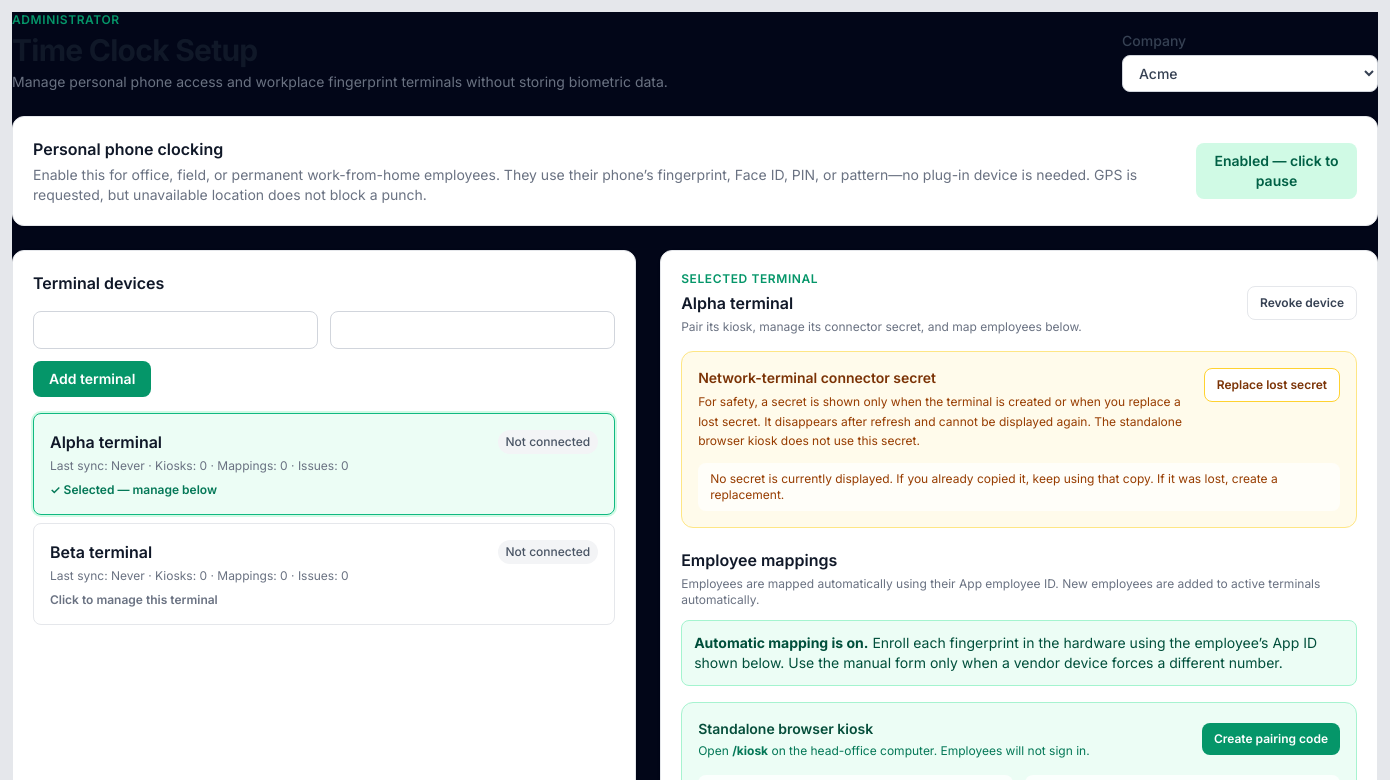
time clock terminal selection › visibly selects a terminal, moves to its controls, and replaces a lost secret
Click the button "Beta terminal": [324, 574] box [33,523,615,625]
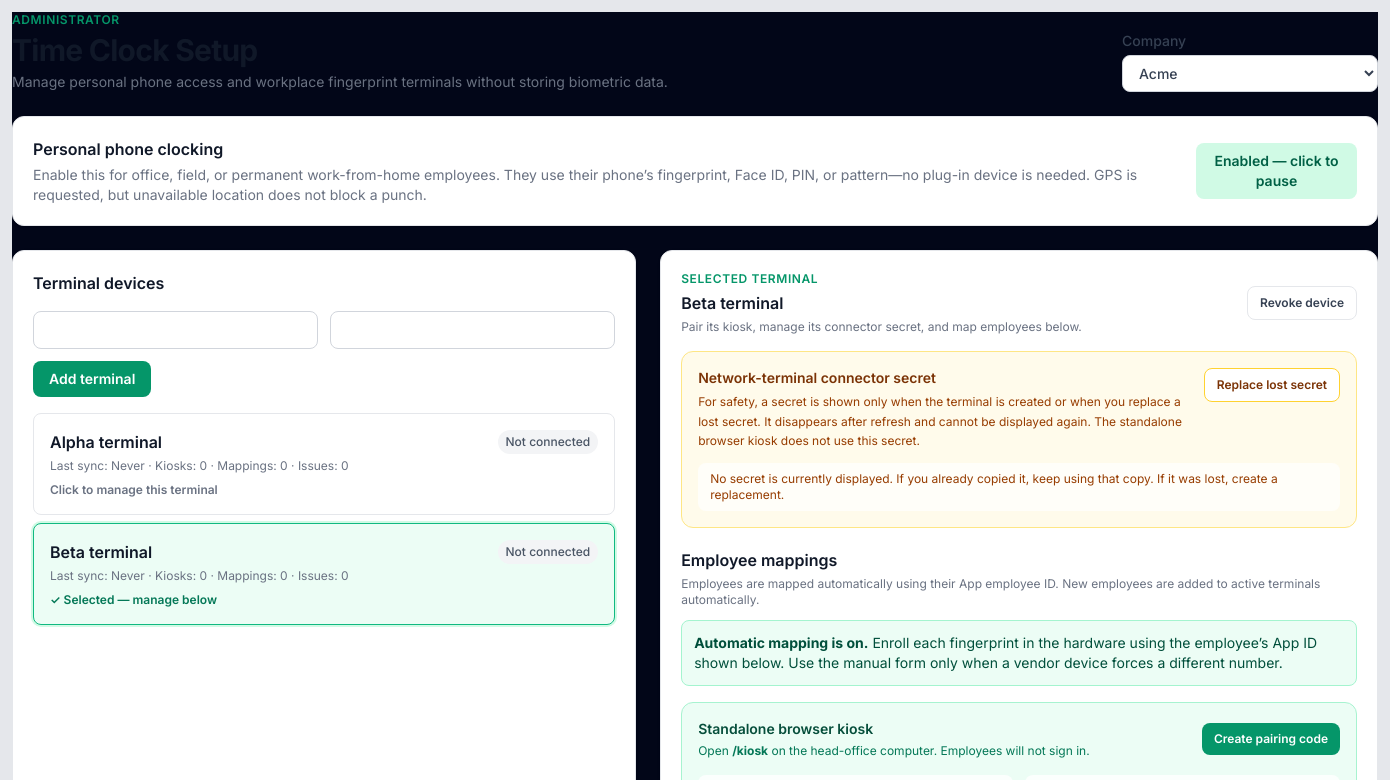
Expected: the text "Automatic mapping is on." is shown, [694,634,868,650]
Expected: the heading "Beta terminal" is shown, [681,293,783,313]
Click the button "Replace lost secret": [1272, 385] box [1204,368,1340,402]
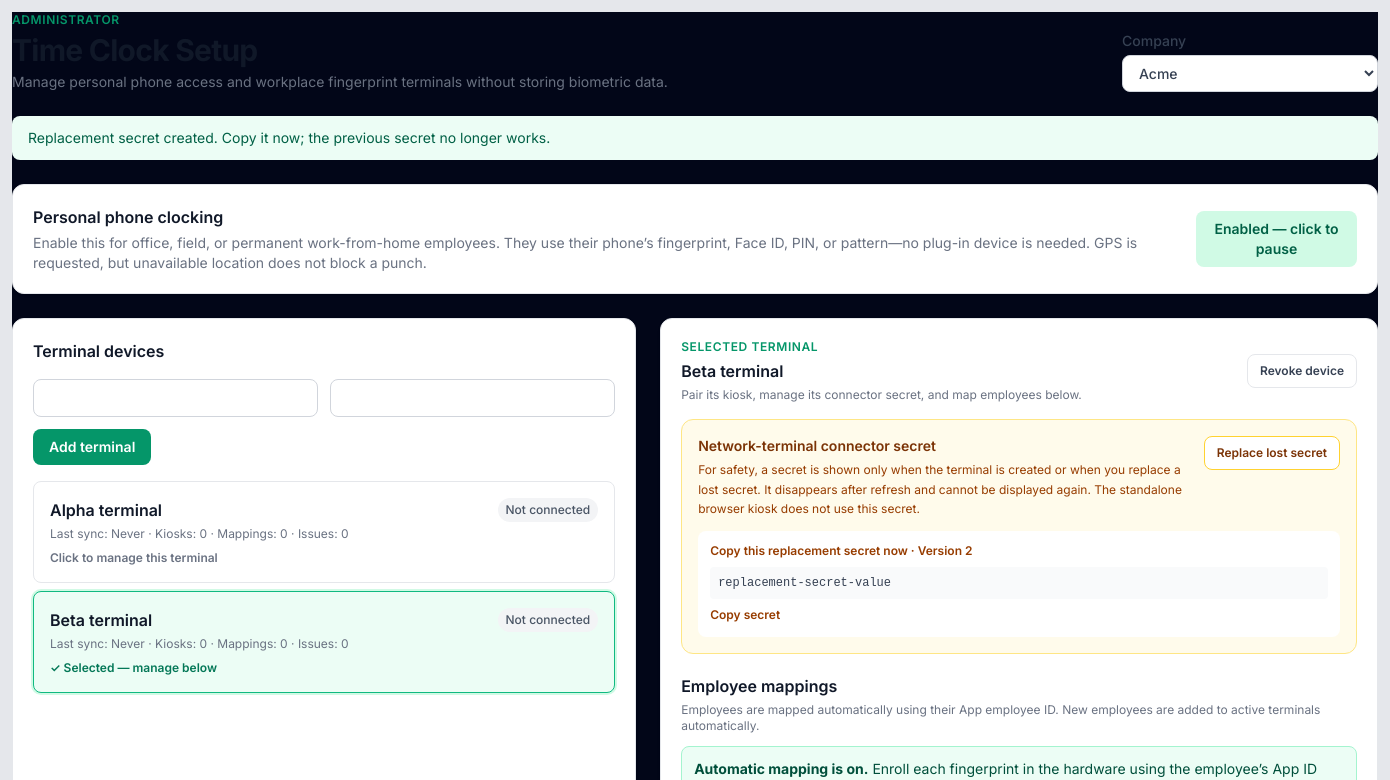
Expected: the text "replacement-secret-value" is shown, [710,566,1328,598]
Expected: the text "previous secret no longer works" is shown, [28,129,550,146]
